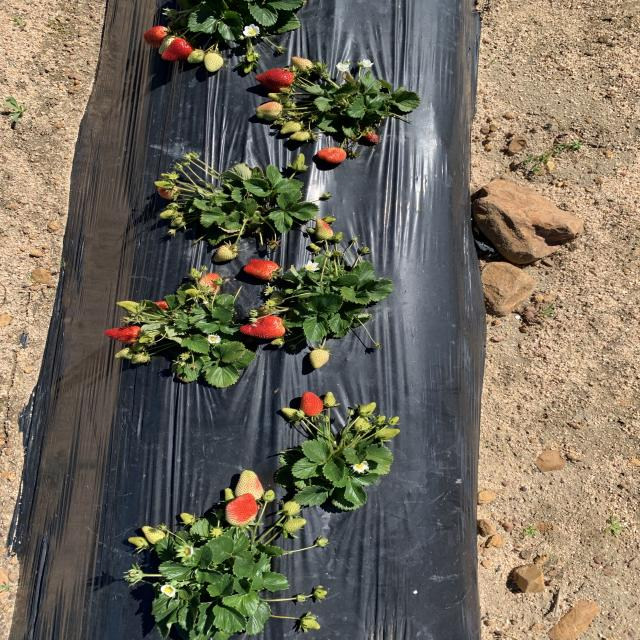unripe: (237, 316, 289, 338), (255, 66, 296, 90), (242, 256, 280, 281), (160, 37, 197, 60), (101, 325, 142, 344), (299, 392, 325, 417), (143, 26, 170, 46), (318, 145, 347, 163), (361, 129, 379, 144)
